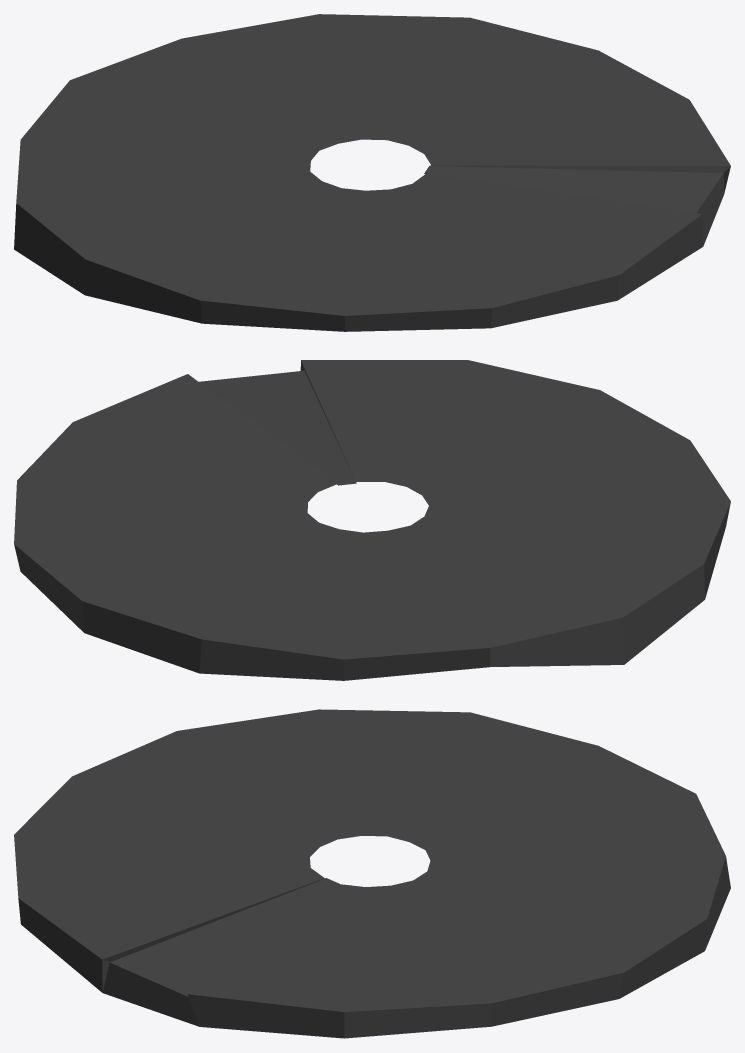
File: Arena 4 Flat.fbx
The picture shows the model from 3 angles, top to bottom: view 1: azimuth 30°, elevation 25°; view 2: azimuth 150°, elevation 25°; view 3: azimuth 270°, elevation 25°; orthographic projection.
Visible parts, largest first — view 1: Arena; view 2: Arena; view 3: Arena.
Part boxes in pixels (<box>): Arena: <box>14,14,730,331</box>; Arena: <box>14,360,730,680</box>; Arena: <box>14,709,730,1038</box>.
Size of the model in its own units: 983 by 70.42 by 982.
1 material, 1 textured.
